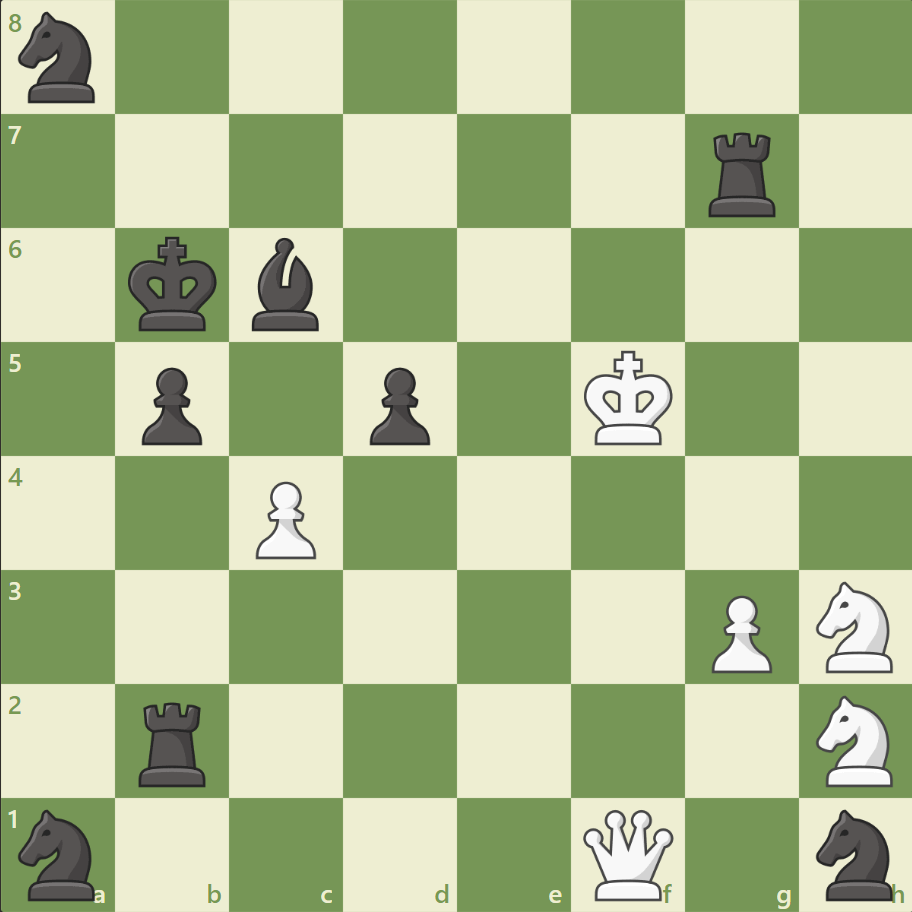K: (579, 344, 679, 452)
N: (806, 688, 903, 791), (806, 575, 903, 677)
P: (247, 473, 322, 564), (701, 586, 776, 677)
Q: (578, 804, 677, 903)
b: (244, 233, 328, 336)
k: (124, 231, 224, 339)
n: (11, 7, 108, 110), (11, 802, 108, 904), (806, 802, 903, 904)
p: (133, 359, 208, 450), (361, 359, 435, 450)
r: (700, 125, 783, 222), (133, 693, 215, 790)
